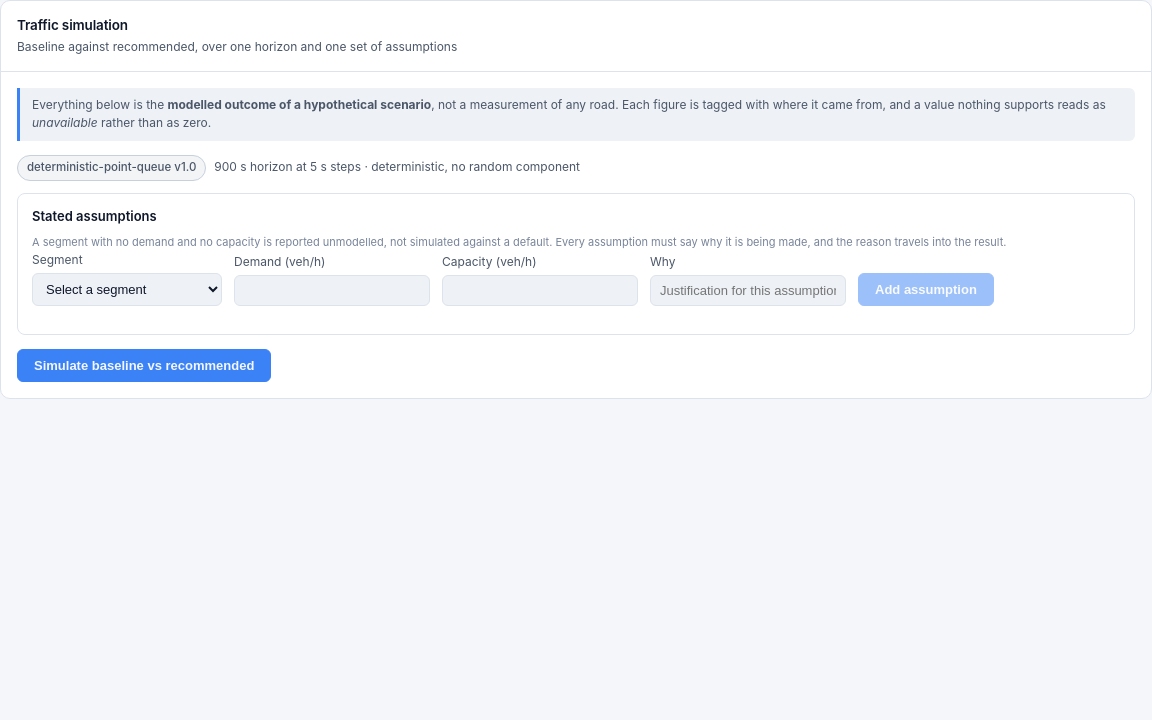
Test: SimulationPanel › renders both arms with their travel times
This screenshot has width=1152, height=720.
Click the button "Simulate baseline vs recommended" at (144, 366), box [17, 349, 271, 382]
(page scrolled)
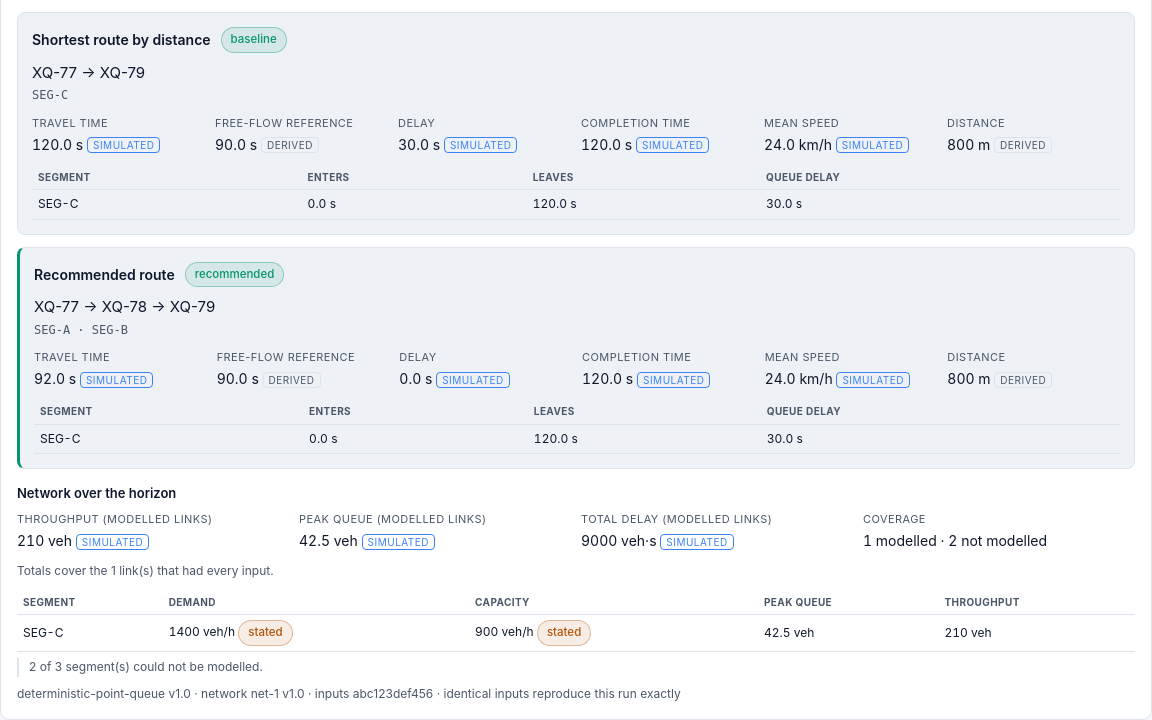
Expected: the text "Shortest route by distance" is shown, [32, 29, 211, 51]
Expected: the text "Recommended route" is shown, [34, 264, 175, 285]
Expected: the 1st text "120.0 s simulated" is shown, [32, 136, 160, 153]
